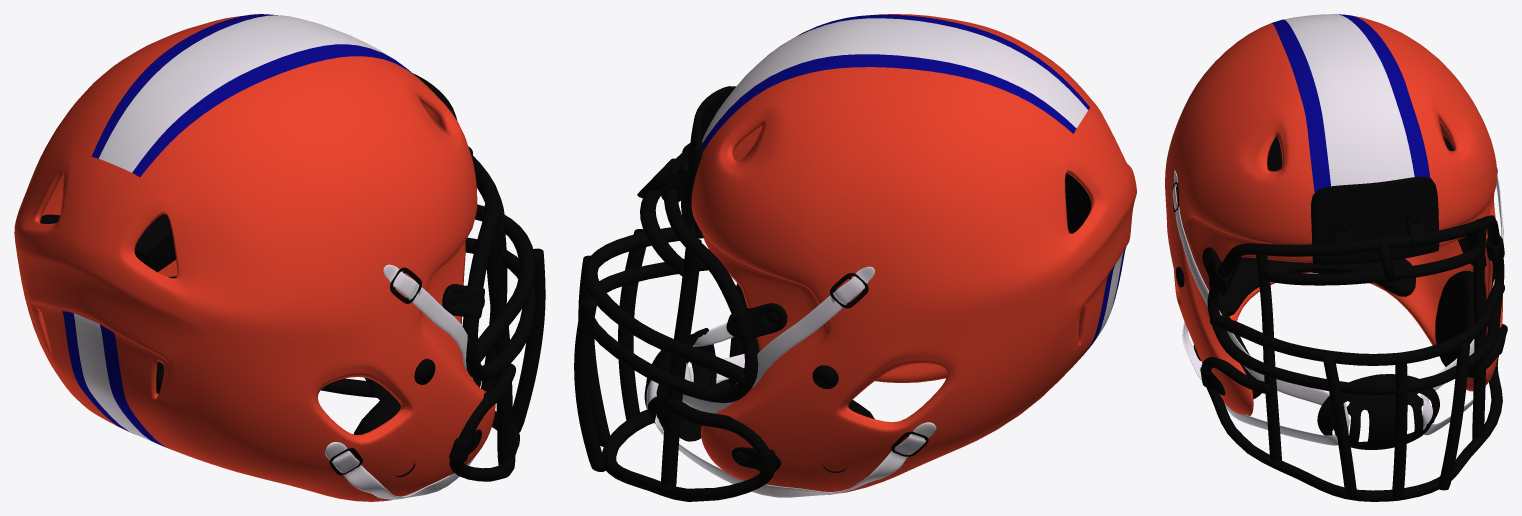
Rendered from helmet.glb.
3 views of the same model, side by side, from view 1: azimuth 30°, elevation 25°; view 2: azimuth 150°, elevation 25°; view 3: azimuth 270°, elevation 25° (orthographic). The views are drawn at different scales.
Visible parts, largest first — view 1: Helmet; view 2: Helmet; view 3: Helmet.
Boxes of the visible parts, bbox=[...] form: Helmet: bbox=[14, 14, 545, 501]; Helmet: bbox=[574, 14, 1136, 501]; Helmet: bbox=[1165, 14, 1507, 501].
Bounding box in the file's own units: 0.3087 × 0.2733 × 0.2343.
